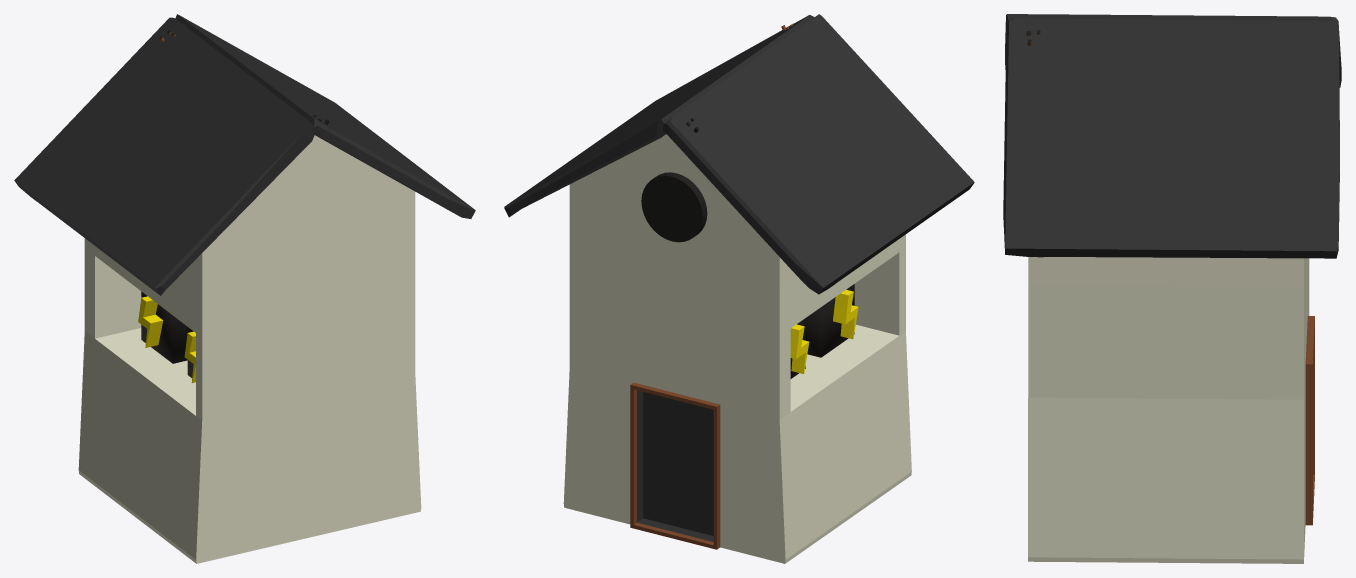
Rendered from Windmill.fbx.
The picture shows the model from 3 angles, left to right: view 1: azimuth 30°, elevation 25°; view 2: azimuth 150°, elevation 25°; view 3: azimuth 270°, elevation 25°; orthographic projection. The views are drawn at different scales.
Parts seen in each view (by area): view 1: Buil.010, Buil.011, Buil.015, Buil.033, Buil.032; view 2: Buil.010, Buil.011, Buil.015, Buil.027, Buil.029, Buil.028, Buil.032; view 3: Buil.010, Buil.015, Buil.011.
Part boxes in pixels (<box>): Buil.010: <box>78,135,421,563</box>; Buil.011: <box>14,17,314,295</box>; Buil.015: <box>175,14,475,218</box>; Buil.033: <box>141,291,187,363</box>; Buil.032: <box>138,296,163,347</box>; Buil.010: <box>563,134,911,563</box>; Buil.011: <box>662,14,974,294</box>; Buil.015: <box>504,15,814,217</box>; Buil.027: <box>641,172,707,242</box>; Buil.029: <box>805,284,854,357</box>; Buil.028: <box>833,289,858,339</box>; Buil.032: <box>790,324,809,373</box>; Buil.010: <box>1028,257,1314,563</box>; Buil.015: <box>1003,18,1339,258</box>; Buil.011: <box>1005,14,1341,87</box>.
Size of the model in its own units: 7617 by 9543 by 6071.
